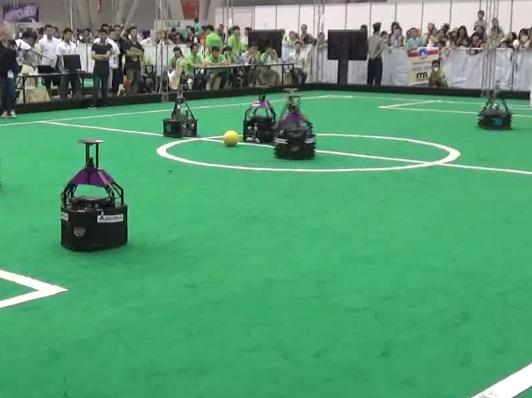robot: (56, 133, 132, 254), (239, 85, 277, 147), (159, 82, 199, 138)
